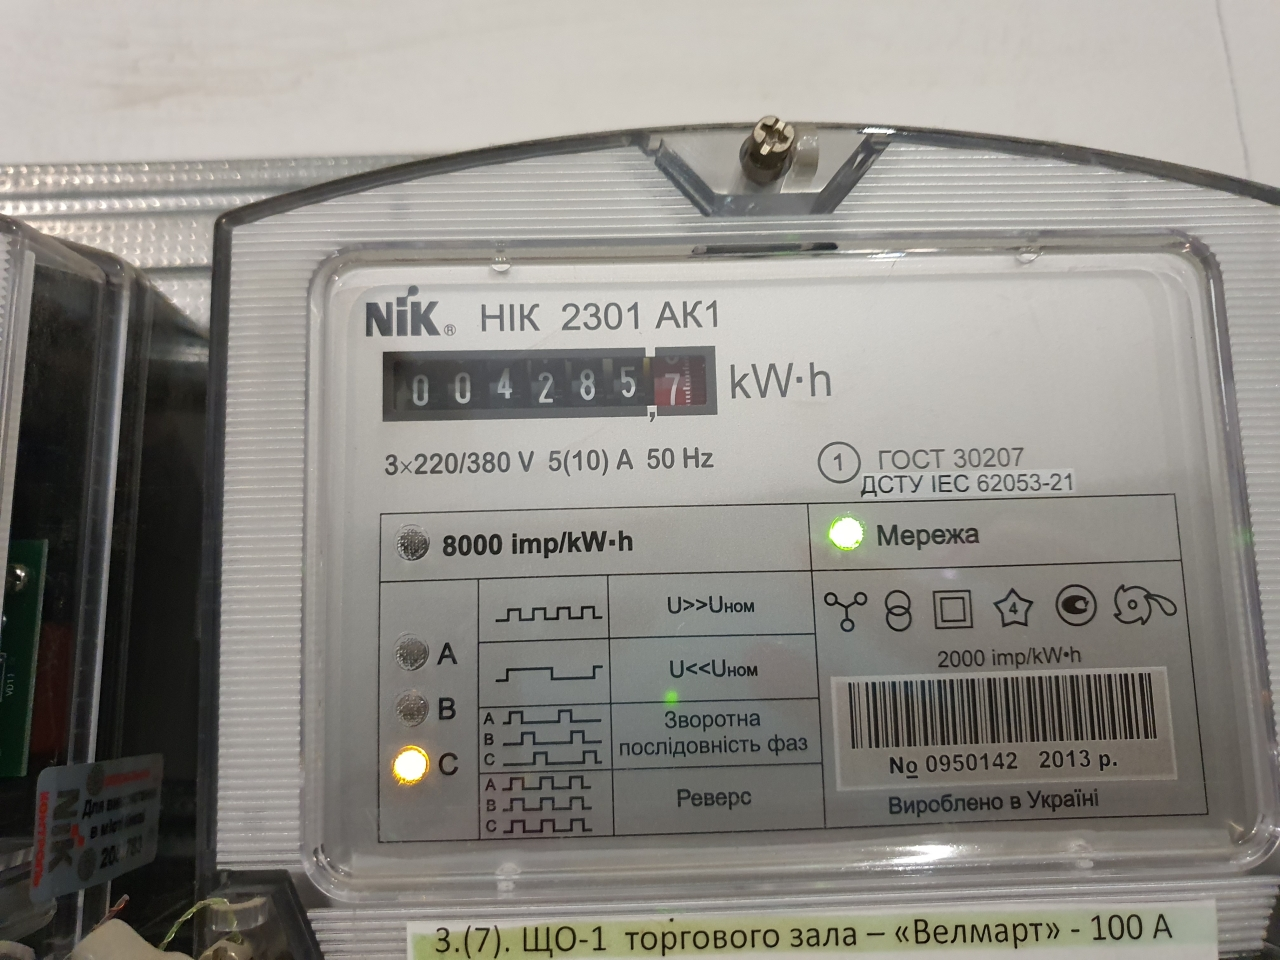0: (452, 368, 473, 405), (410, 371, 431, 406)
2: (536, 369, 555, 405)
4: (496, 365, 513, 400)
5: (617, 362, 638, 398)
7: (662, 370, 681, 406)
8: (577, 366, 597, 402)
screen: (367, 334, 732, 434)
